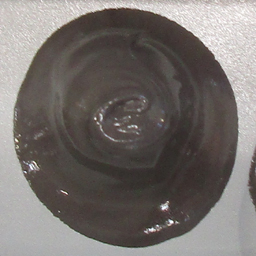perfect: (12, 4, 240, 252)
